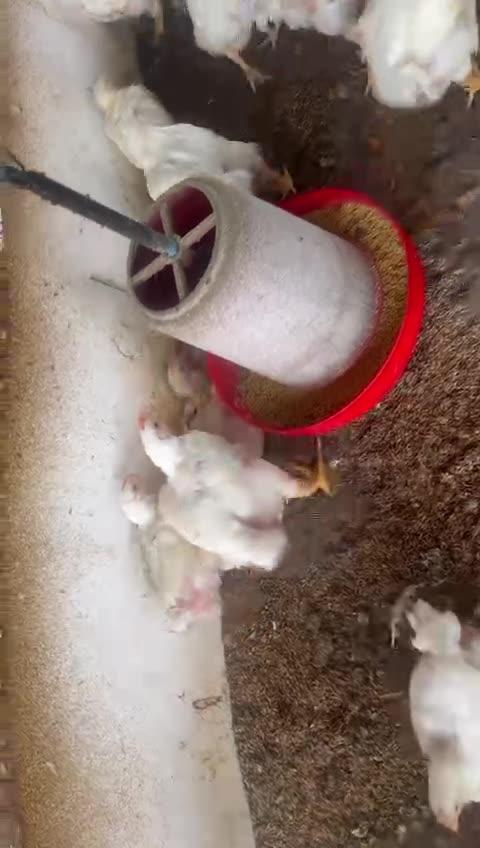Normal: (137, 415, 333, 568), (117, 479, 245, 635), (87, 70, 184, 157)
